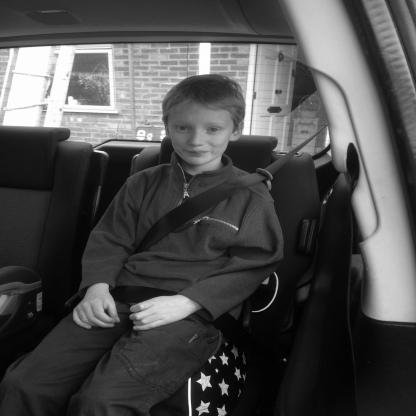seatbelt: (119, 74, 266, 263)
